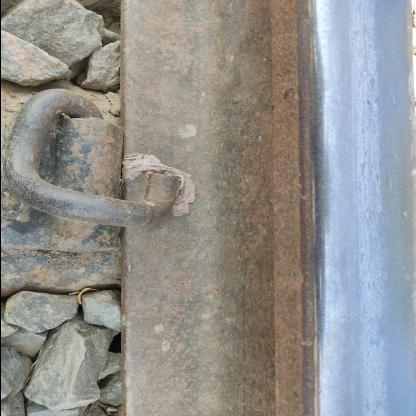Non Defective: (0, 72, 226, 288)
